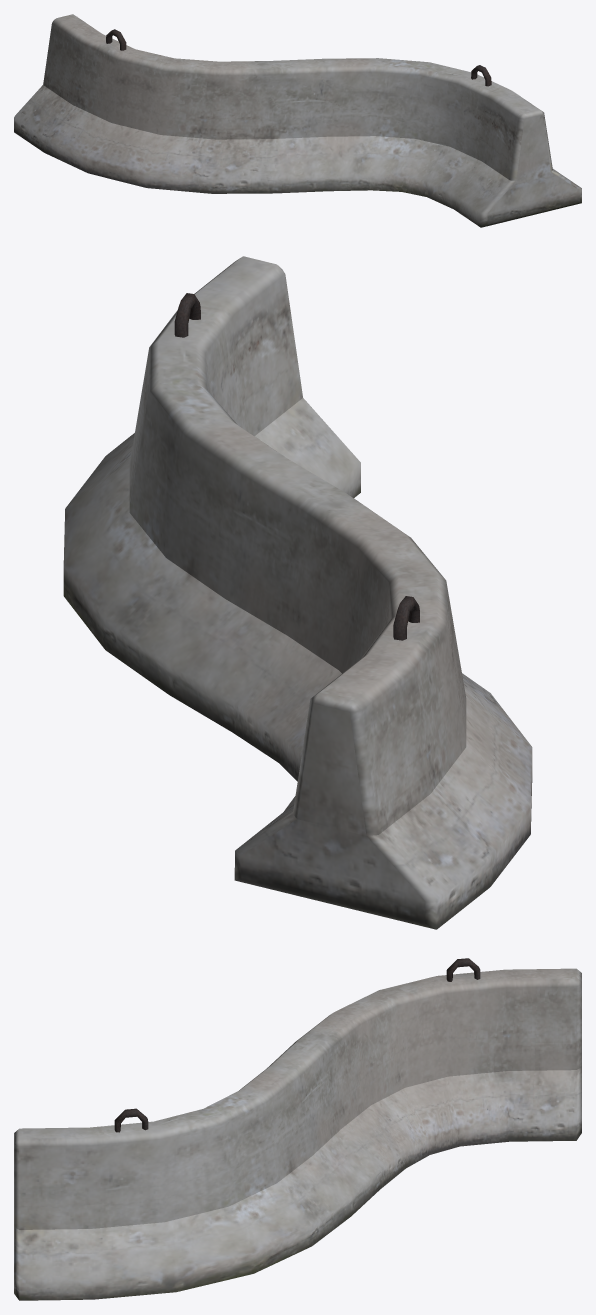
The model's file is ConcreteBarrier_A_F.fbx.
3 views of the same model, one above another, from view 1: azimuth 30°, elevation 25°; view 2: azimuth 150°, elevation 25°; view 3: azimuth 270°, elevation 25° (orthographic). The views are drawn at different scales.
Visible parts, largest first — view 1: ConcreteBarrier_A_F; view 2: ConcreteBarrier_A_F; view 3: ConcreteBarrier_A_F.
Boxes of the visible parts, x1,y1,x2,y2 form: ConcreteBarrier_A_F: [14, 14, 581, 227]; ConcreteBarrier_A_F: [63, 256, 532, 929]; ConcreteBarrier_A_F: [14, 958, 581, 1300].
Bounding box in the file's own units: 280 × 89.84 × 300.
